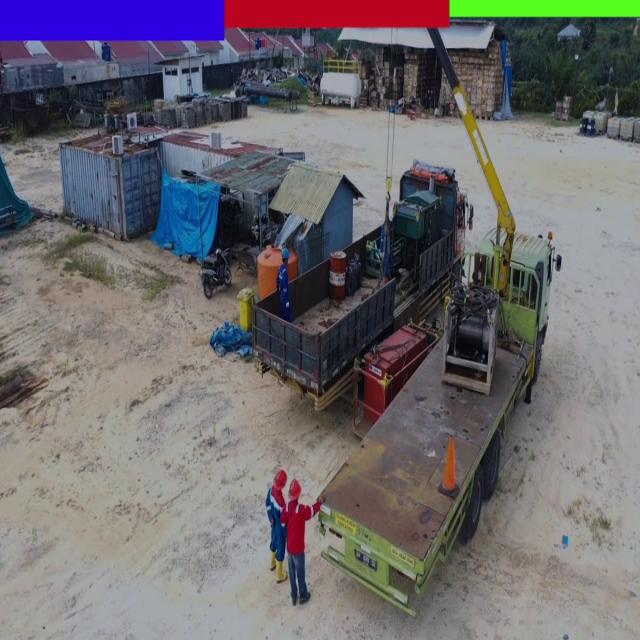Hardhat: (288, 479, 301, 502), (274, 468, 286, 490), (280, 246, 290, 260), (388, 210, 394, 221)
No Glove: (320, 492, 327, 502)
No Overall Suit: (282, 502, 321, 592), (277, 264, 290, 323)
Overall Suit: (266, 487, 285, 561)
Safety Boots: (274, 560, 287, 584), (270, 549, 277, 570)
